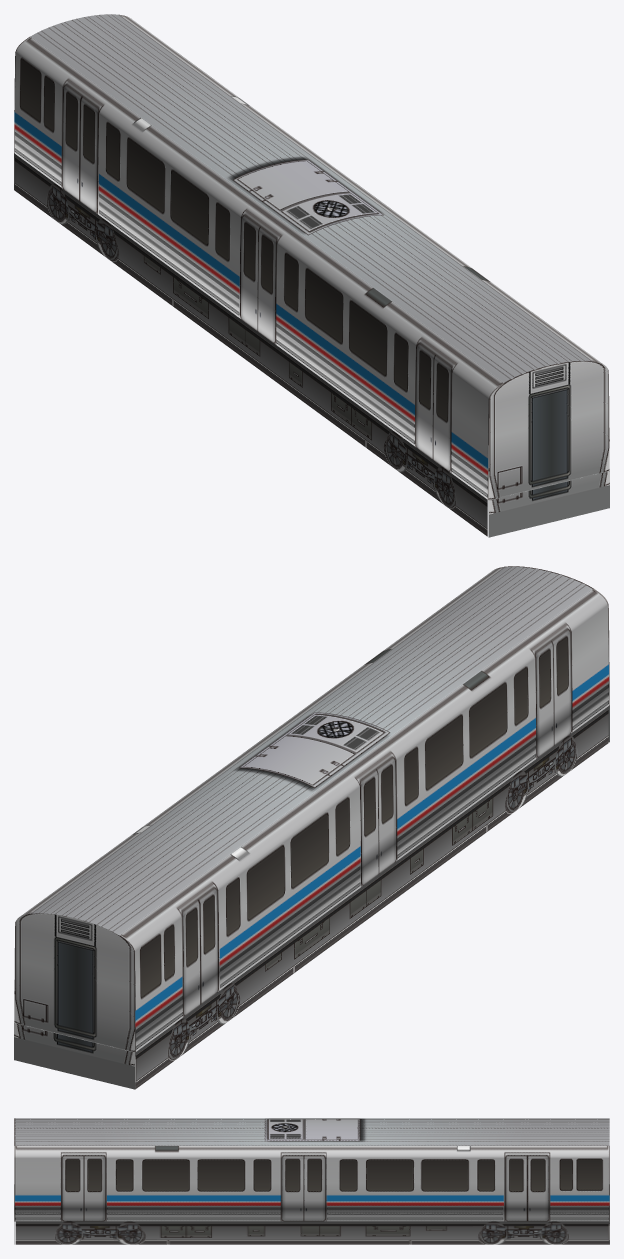
File: car2.glb
3 views of the same model, one above another, from view 1: azimuth 30°, elevation 25°; view 2: azimuth 150°, elevation 25°; view 3: azimuth 270°, elevation 25° (orthographic). The views are drawn at different scales.
Parts seen in each view (by area): view 1: jr-shikoku-6000-car2; view 2: jr-shikoku-6000-car2; view 3: jr-shikoku-6000-car2.
Part boxes in pixels (x1,y1,x2,y2): jr-shikoku-6000-car2: (14, 14, 609, 537); jr-shikoku-6000-car2: (14, 566, 609, 1089); jr-shikoku-6000-car2: (14, 1118, 609, 1244).
Bounding box in the file's own units: 2.95 × 3.64 × 20.03.
9 materials, 8 textured.
